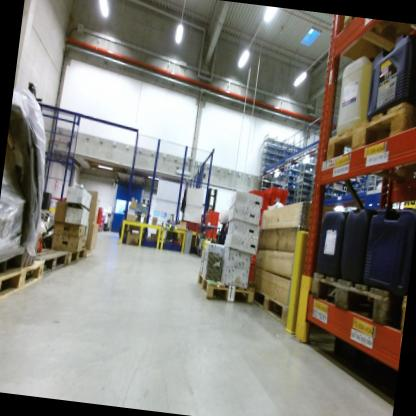forklift: (196, 177, 221, 235)
pallet: (322, 89, 416, 186), (299, 260, 391, 324), (0, 251, 51, 314), (336, 18, 416, 57), (193, 267, 259, 312), (245, 284, 304, 333), (25, 245, 72, 289), (61, 242, 88, 276), (398, 285, 408, 338), (96, 227, 102, 233), (100, 227, 105, 232)
small_load_carrier: (265, 184, 291, 220), (245, 186, 271, 219), (200, 227, 213, 241), (210, 229, 220, 240), (185, 224, 195, 232)
